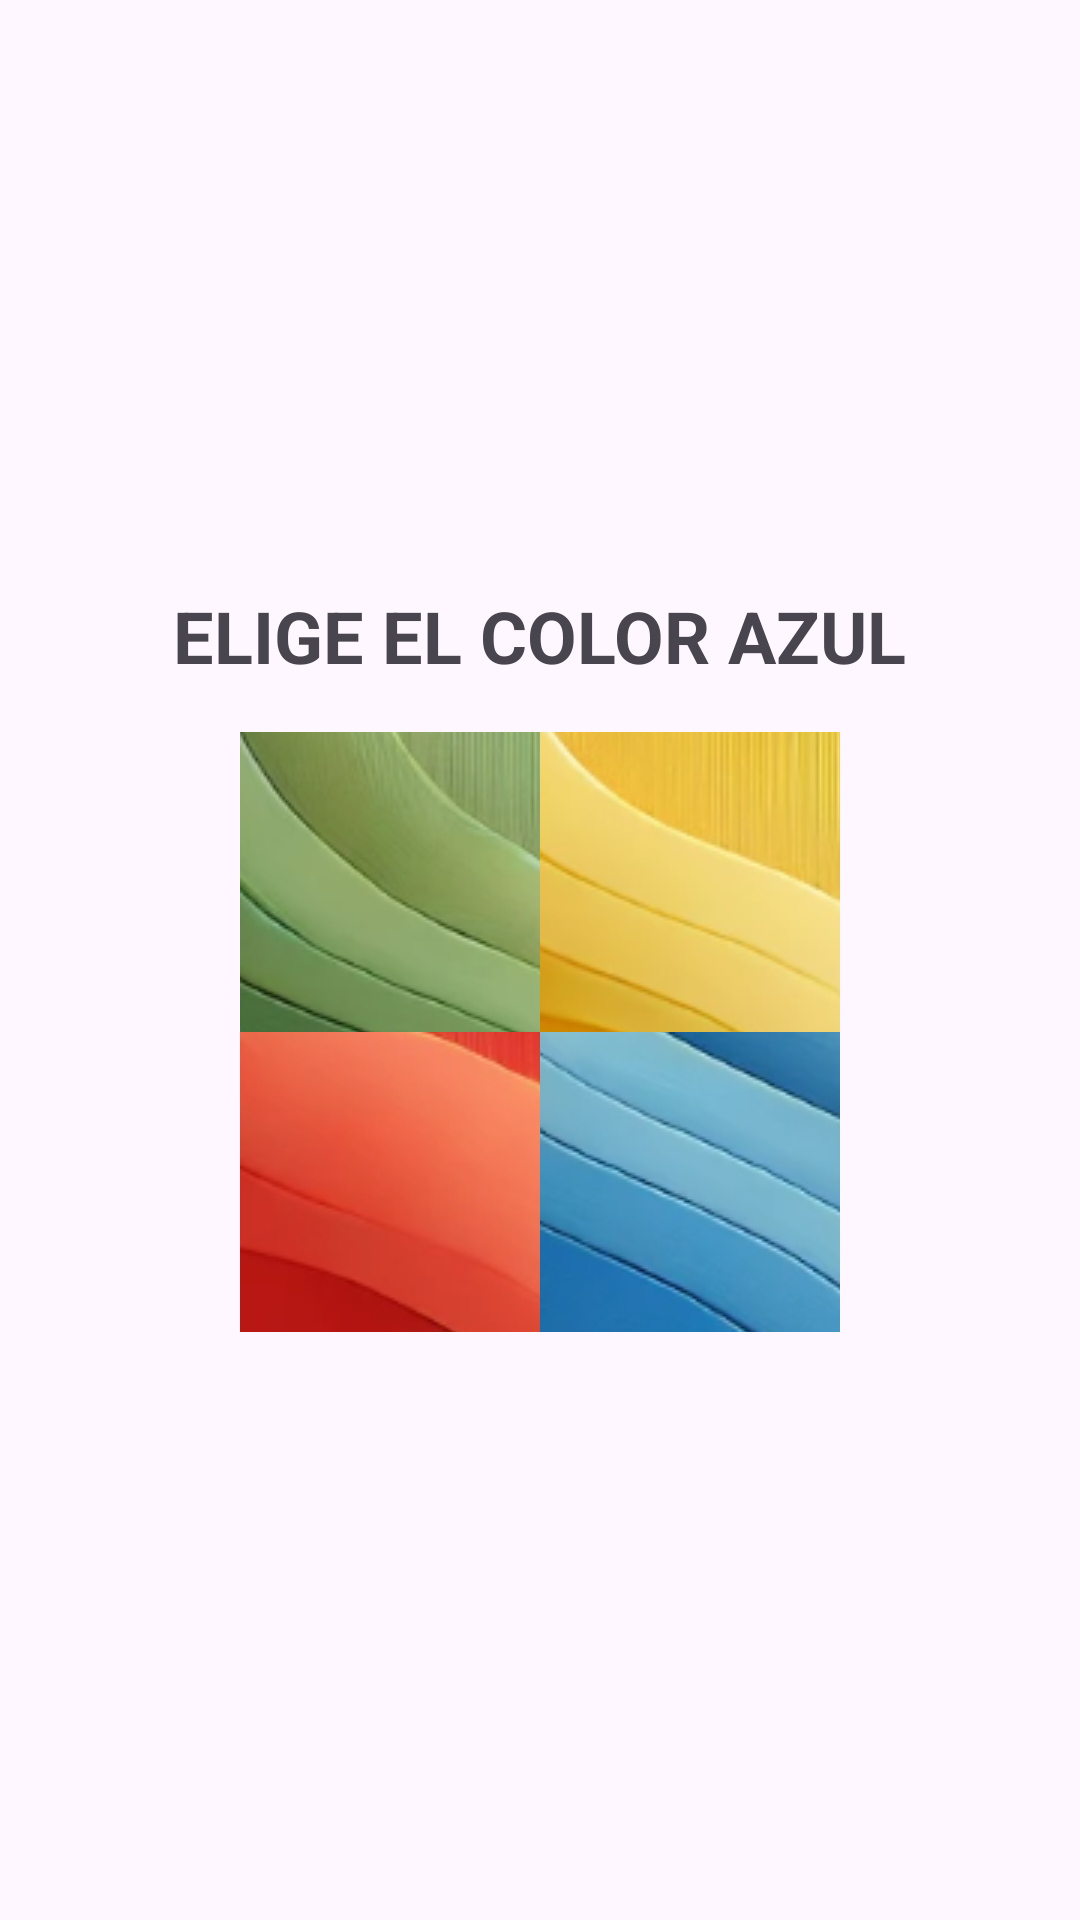

Point at icon controls on the screen. Image size 1080 x 1920, points as (x=x, y=y).
Botón amarillo: (x=690, y=882)
Botón azul: (x=690, y=1182)
Botón rojo: (x=390, y=1182)
Botón verde: (x=390, y=882)
